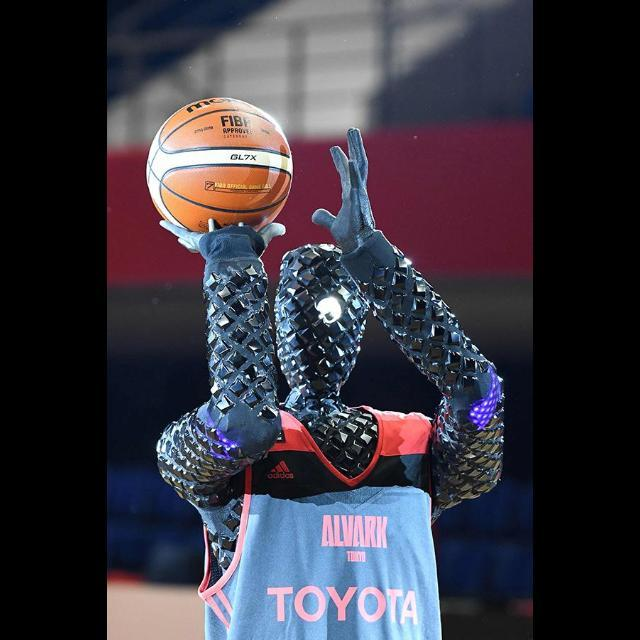basketball: (147, 97, 295, 230)
